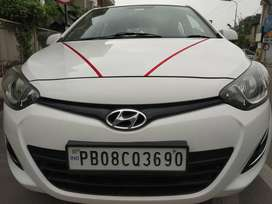PB08C03690: (68, 146, 186, 171)
